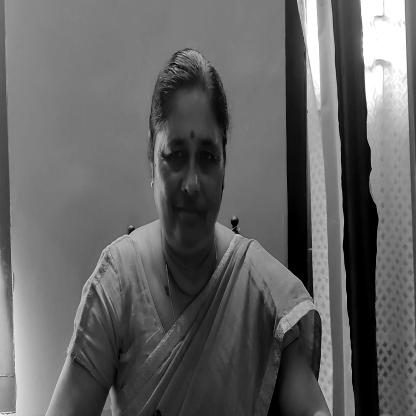Normal: (148, 56, 228, 266)
